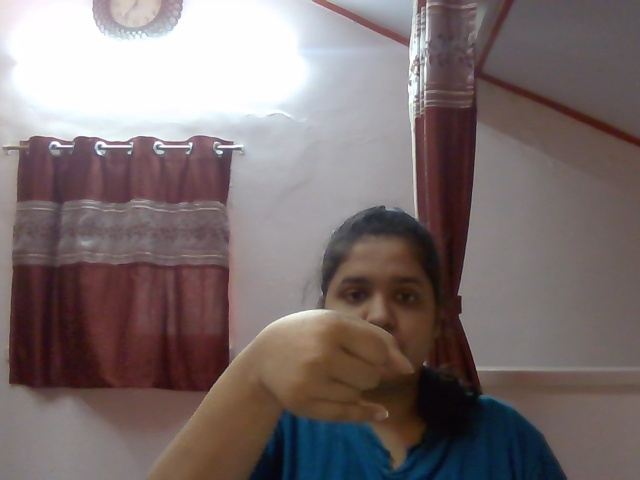j: (264, 297, 427, 439)
